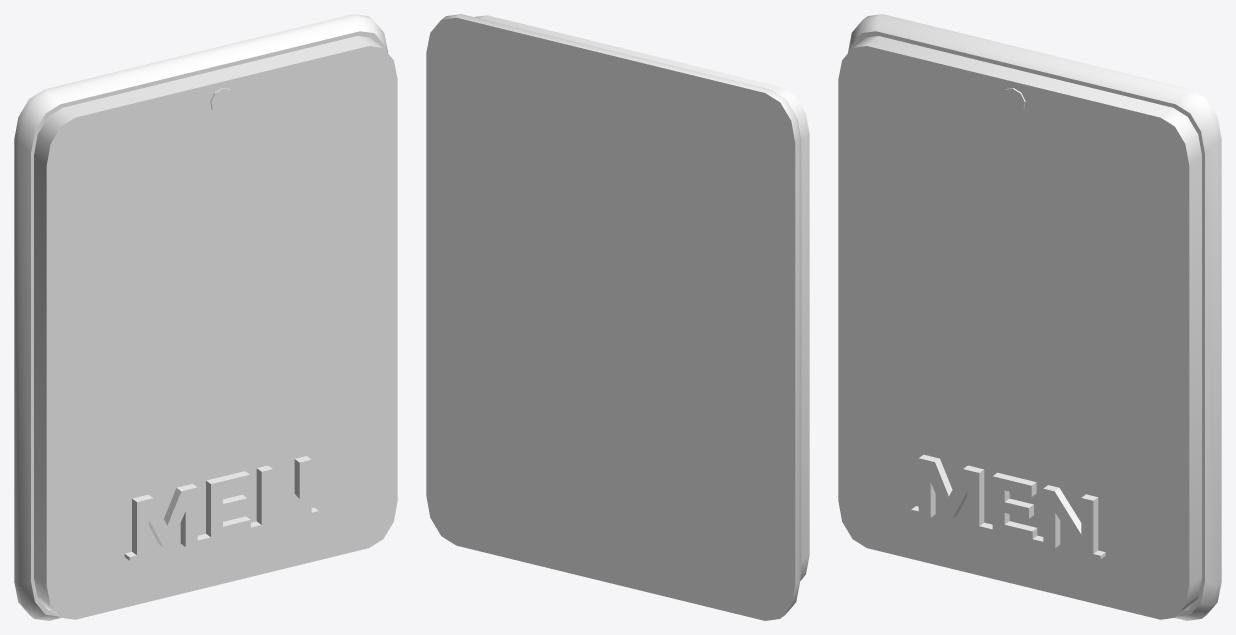
The model's file is Restroom Sign Male.glb.
3 views of the same model, side by side, from view 1: azimuth 30°, elevation 25°; view 2: azimuth 150°, elevation 25°; view 3: azimuth 330°, elevation 25° (orthographic).
Parts seen in each view (by area): view 1: Plane.028; view 2: Plane.028; view 3: Plane.028.
Boxes of the visible parts, x1,y1,x2,y2 form: Plane.028: (14,14,397,620); Plane.028: (426,14,809,620); Plane.028: (838,14,1221,620).
Bounding box in the file's own units: 0.2102 × 0.2873 × 0.028.
3 materials, 2 textured.
